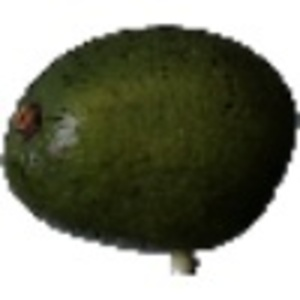abacate: (3, 22, 295, 253)
